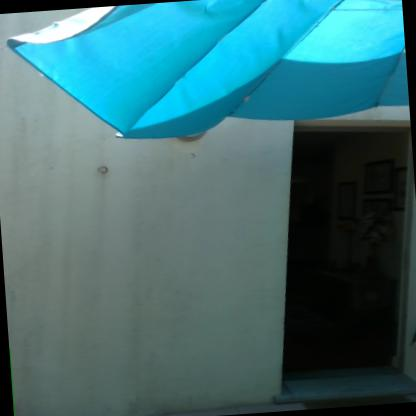open: (255, 108, 415, 412)
